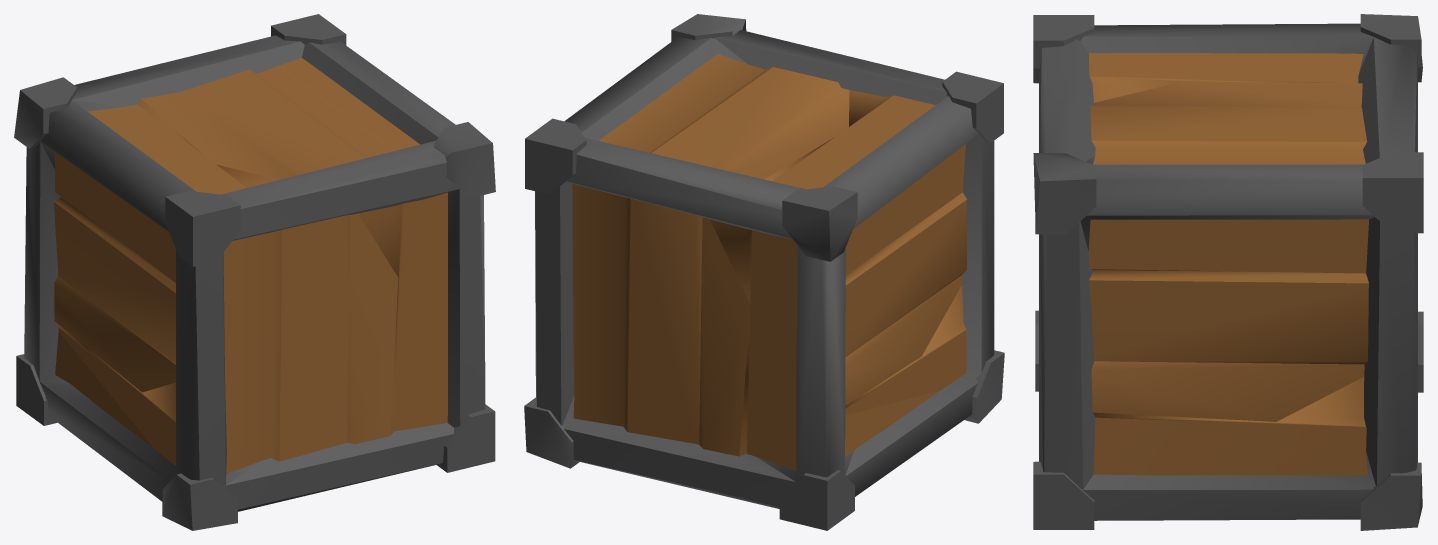
The model's file is Prop_Crate.fbx.
3 renders of one model, left to right at view 1: azimuth 30°, elevation 25°; view 2: azimuth 150°, elevation 25°; view 3: azimuth 270°, elevation 25°, orthographic. The views are drawn at different scales.
Visible parts, largest first — view 1: Prop_Crate; view 2: Prop_Crate; view 3: Prop_Crate.
Boxes of the visible parts, x1=… form: Prop_Crate: x1=14, y1=14, x2=495, y2=530; Prop_Crate: x1=524, y1=14, x2=1004, y2=530; Prop_Crate: x1=1033, y1=14, x2=1423, y2=530.
Bounding box in the file's own units: 305 × 304 × 304.
